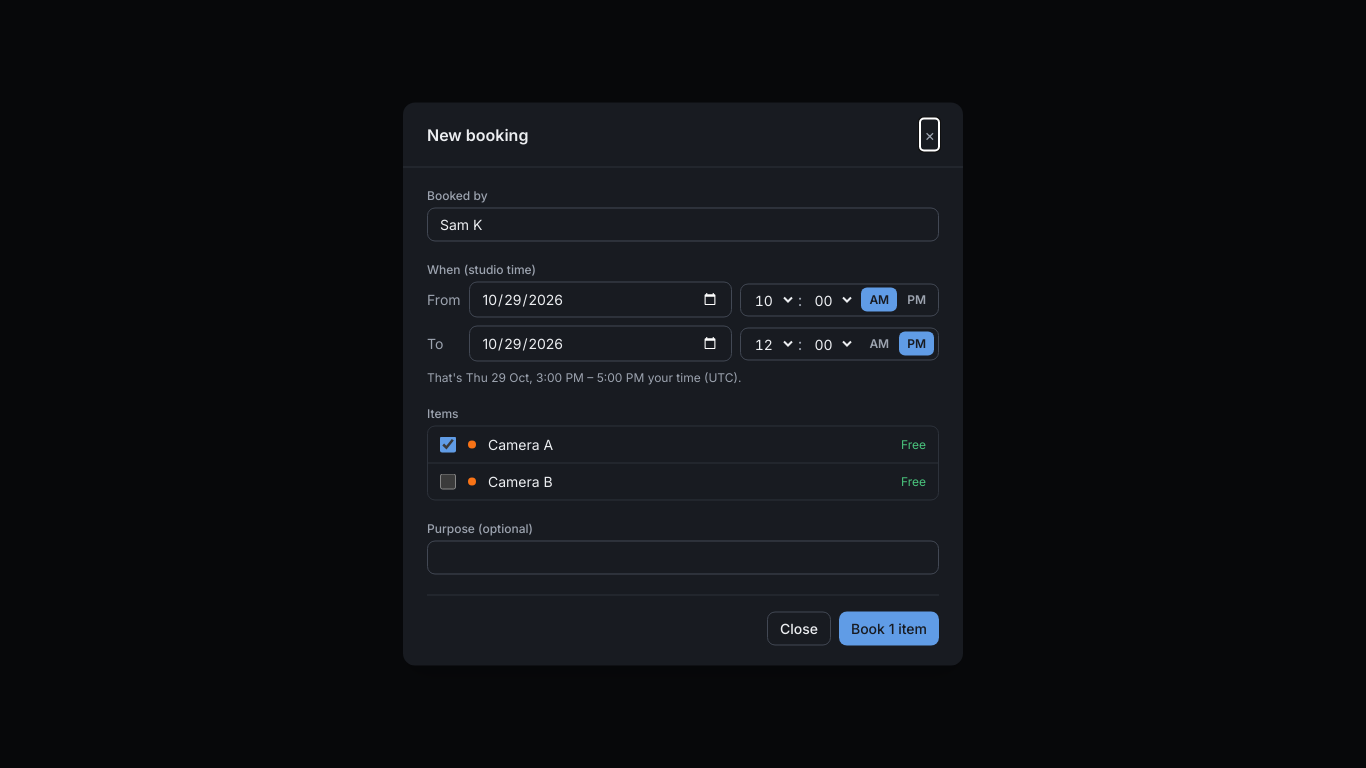
Test: new booking › checks the form before asking the server
Clear the field named "Booked by" at coordinates (683, 224), box [427,208,939,242]
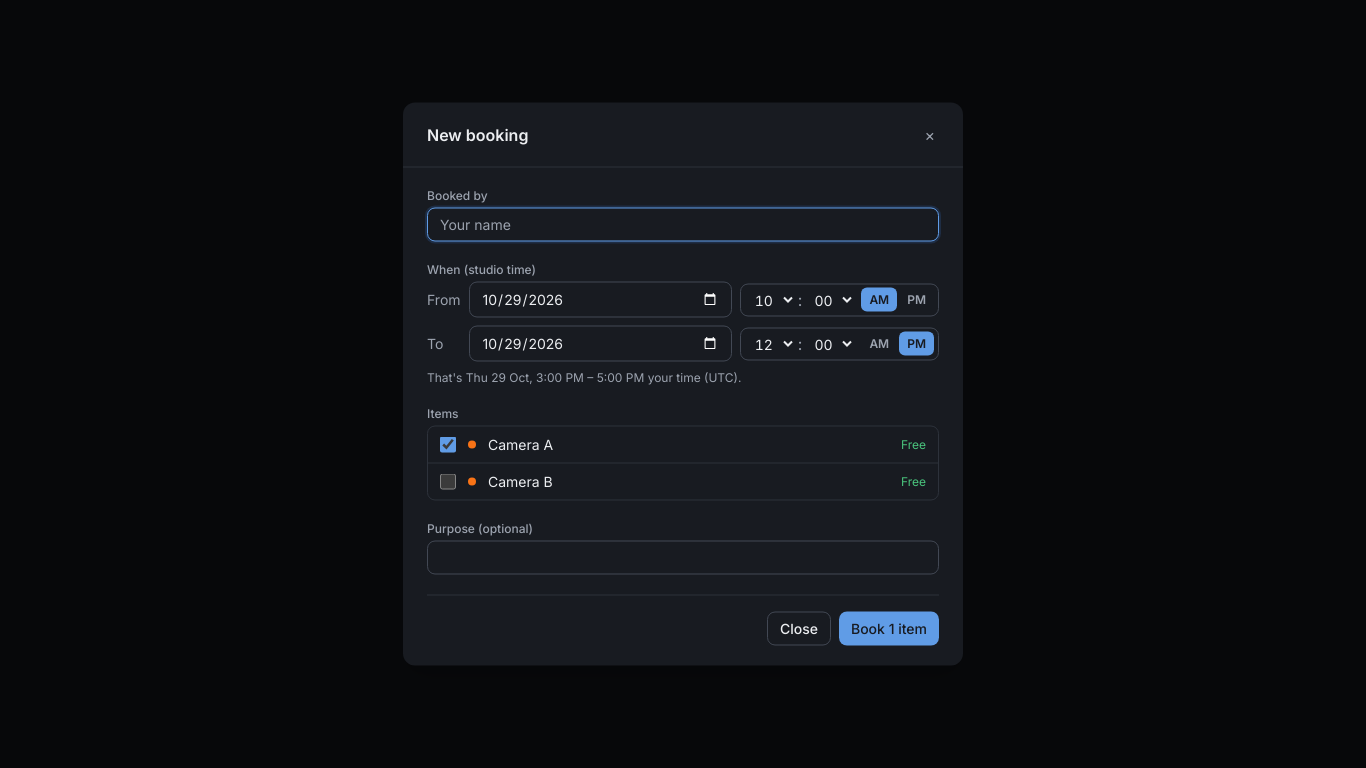
Click the button "Book 1 item" at coordinates (889, 628), box [839,612,939,646]
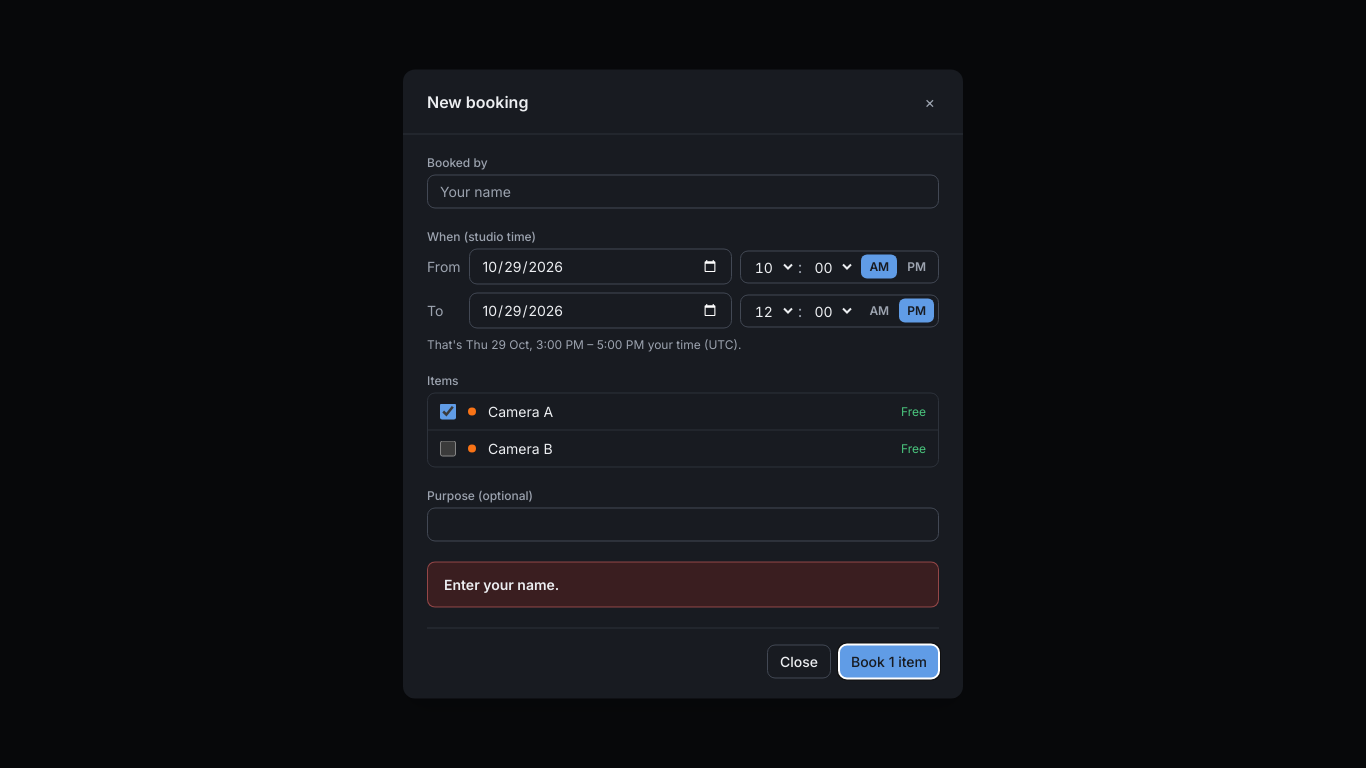
Result: the message reads "Enter your name." at [444,576,559,592]
